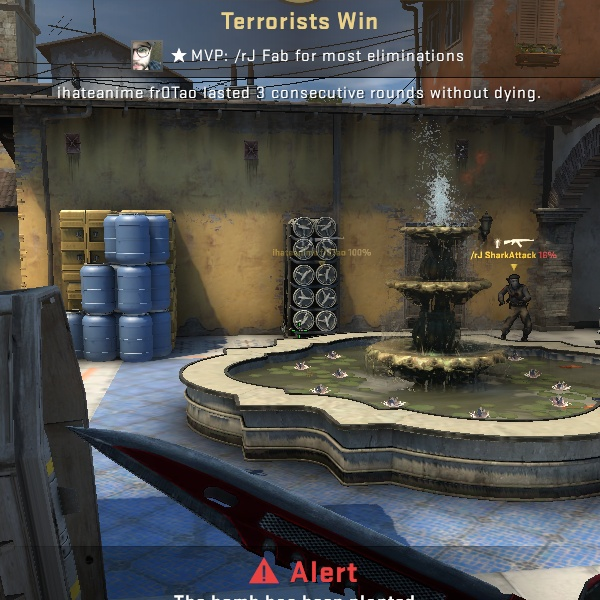t_body: (493, 272, 538, 341)
